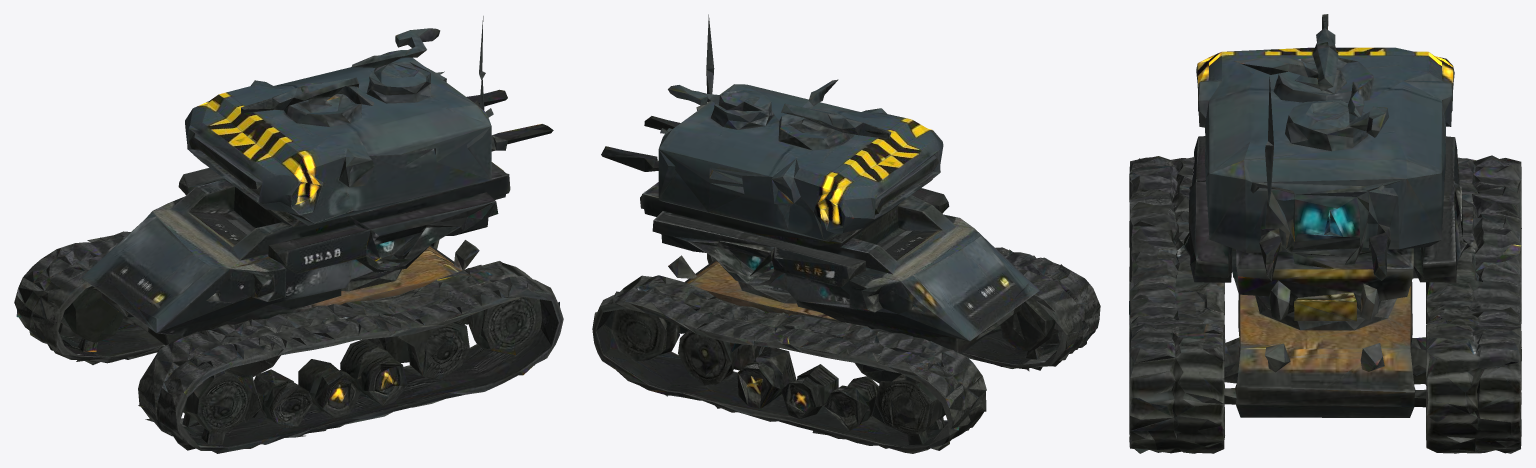
The model's file is mender_treads.glb.
3 renders of one model, left to right at view 1: azimuth 30°, elevation 25°; view 2: azimuth 150°, elevation 25°; view 3: azimuth 270°, elevation 25°, orthographic. The views are drawn at different scales.
Size of the model in its own units: 1.89 by 1.35 by 1.2.
1 material, 1 textured.
